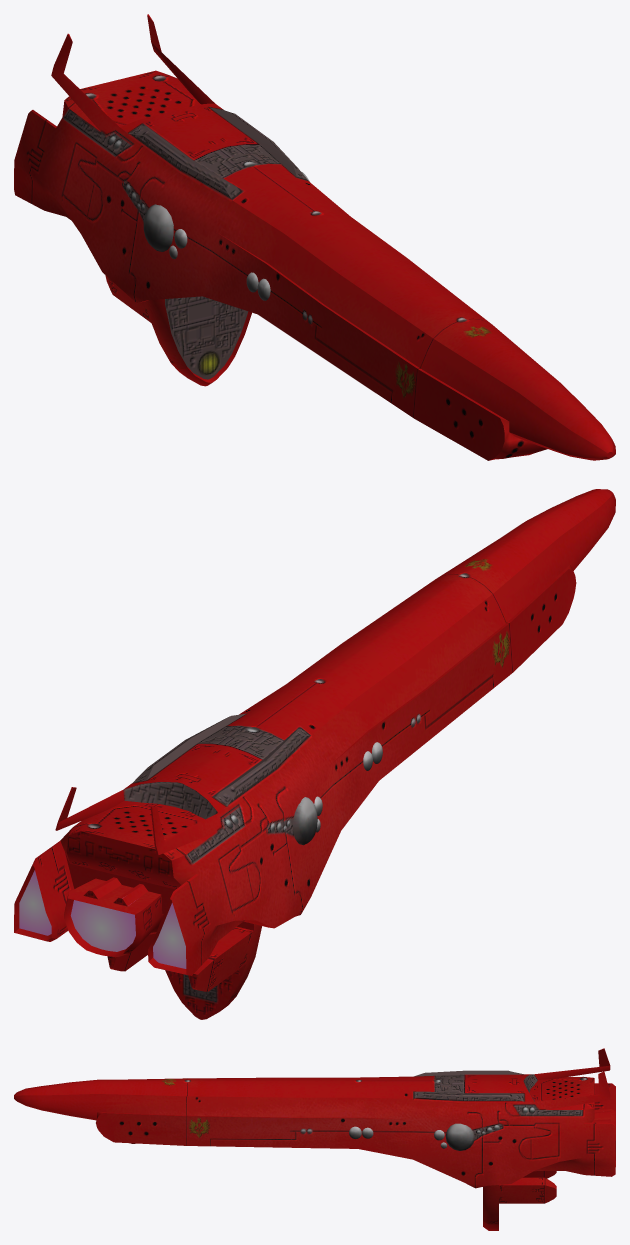
File: GE_CommandShip_Barbarossa.obj
3 views of the same model, one above another, from view 1: azimuth 30°, elevation 25°; view 2: azimuth 150°, elevation 25°; view 3: azimuth 270°, elevation 25° (orthographic). The views are drawn at different scales.
Parts seen in each view (by area): view 1: GE_CommandShip_Barbarossa; view 2: GE_CommandShip_Barbarossa; view 3: GE_CommandShip_Barbarossa.
Part boxes in pixels (x1,y1,x2,y2): GE_CommandShip_Barbarossa: (14,14,615,460); GE_CommandShip_Barbarossa: (14,489,615,1019); GE_CommandShip_Barbarossa: (14,1048,615,1230).
Size of the model in its own units: 158 by 247 by 789.
